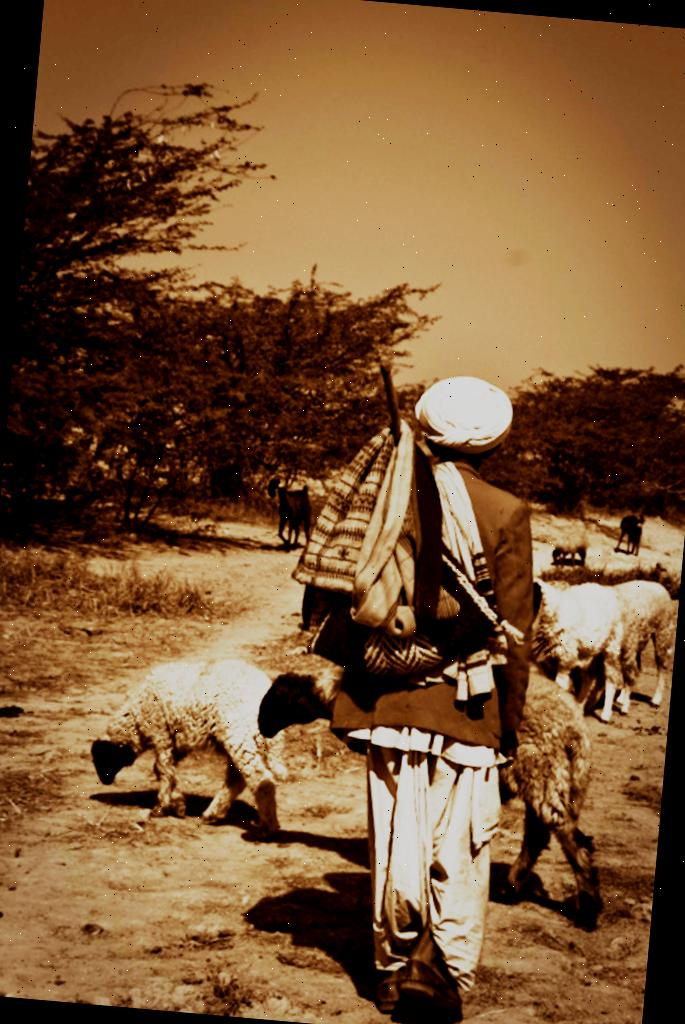Sheep: (457, 656, 616, 940), (76, 644, 303, 839), (484, 552, 634, 722), (590, 566, 681, 712)
